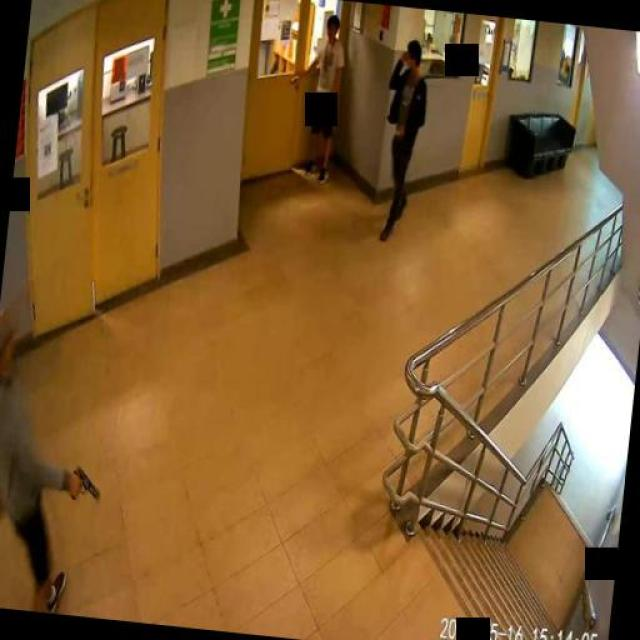gun: (68, 462, 102, 502)
